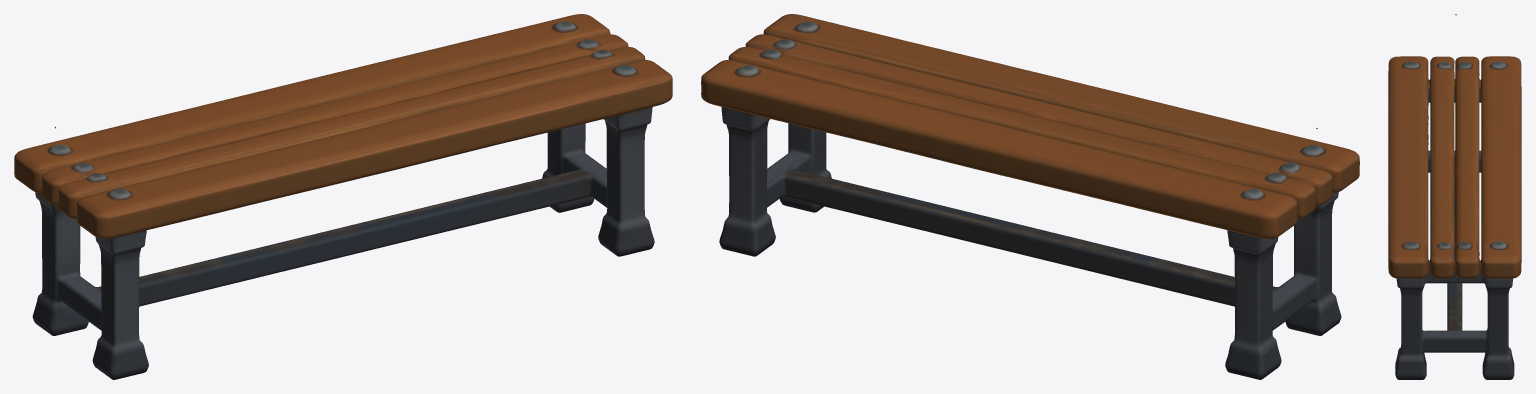
File: wooden_bench.glb
The picture shows the model from 3 angles, left to right: view 1: azimuth 30°, elevation 25°; view 2: azimuth 150°, elevation 25°; view 3: azimuth 270°, elevation 25°; orthographic projection. The views are drawn at different scales.
Visible parts, largest first — view 1: world; view 2: world; view 3: world.
Part boxes in pixels (x1,y1,x2,y2): world: (14,14,672,379); world: (701,14,1359,379); world: (1388,14,1521,379).
Size of the model in its own units: 1 by 0.3795 by 0.2734.
Materials: 1 (1 with a texture image).
